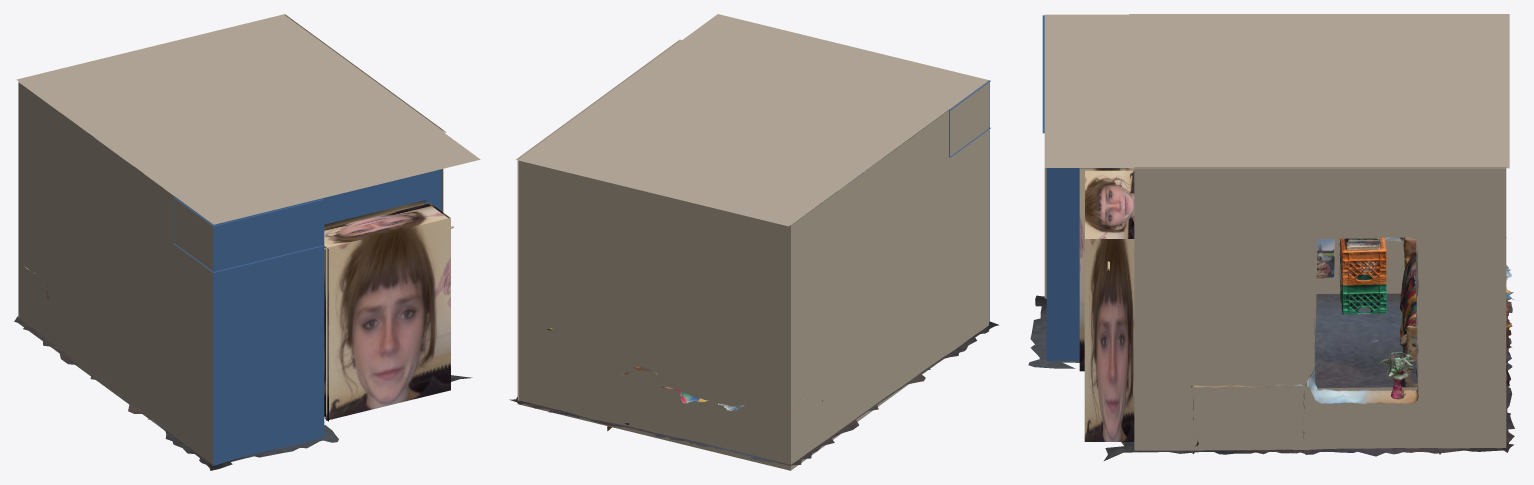
The model's file is room11.glb.
3 views of the same model, side by side, from view 1: azimuth 30°, elevation 25°; view 2: azimuth 150°, elevation 25°; view 3: azimuth 270°, elevation 25° (orthographic). The views are drawn at different scales.
Visible parts, largest first — view 1: Plane, Plane.010, Plane.005, me.002, Plane.008, Plane.001, me.004, floor.001, me.003, door closet; view 2: Plane.003, Plane, Plane.010, Plane.008, floor.001; view 3: Plane.002, Plane.010, Plane.008, floor.001, me.005, Plane.004, crate new, me.004, bed, Plane, mesh.003, me.003 (+2 smaller).
Part boxes in pixels (left/top/right/bottom): Plane: left=18, top=82, right=213, bottom=465; Plane.010: left=16, top=14, right=446, bottom=197; Plane.005: left=212, top=198, right=324, bottom=465; me.002: left=326, top=218, right=450, bottom=420; Plane.008: left=18, top=81, right=480, bottom=224; Plane.001: left=323, top=169, right=441, bottom=224; me.004: left=324, top=203, right=447, bottom=249; floor.001: left=14, top=316, right=472, bottom=470; me.003: left=324, top=246, right=328, bottom=421; door closet: left=324, top=200, right=426, bottom=228; Plane.003: left=517, top=160, right=790, bottom=470; Plane: left=791, top=81, right=988, bottom=470; Plane.010: left=516, top=39, right=952, bottom=226; Plane.008: left=682, top=14, right=988, bottom=225; floor.001: left=509, top=321, right=998, bottom=465; Plane.002: left=1134, top=167, right=1506, bottom=450; Plane.010: left=1129, top=14, right=1509, bottom=168; Plane.008: left=1044, top=14, right=1128, bottom=167; floor.001: left=1028, top=293, right=1514, bottom=460; me.005: left=1084, top=239, right=1134, bottom=441; Plane.004: left=1046, top=168, right=1128, bottom=360; crate new: left=1339, top=237, right=1386, bottom=314; me.004: left=1085, top=170, right=1134, bottom=238; bed: left=1400, top=237, right=1514, bottom=387; Plane: left=1044, top=168, right=1416, bottom=298; mesh.003: left=1305, top=247, right=1418, bottom=404; me.003: left=1079, top=168, right=1134, bottom=371.
Size of the model in its own units: 1.21 by 0.969 by 1.41.
145 materials, 140 textured.
